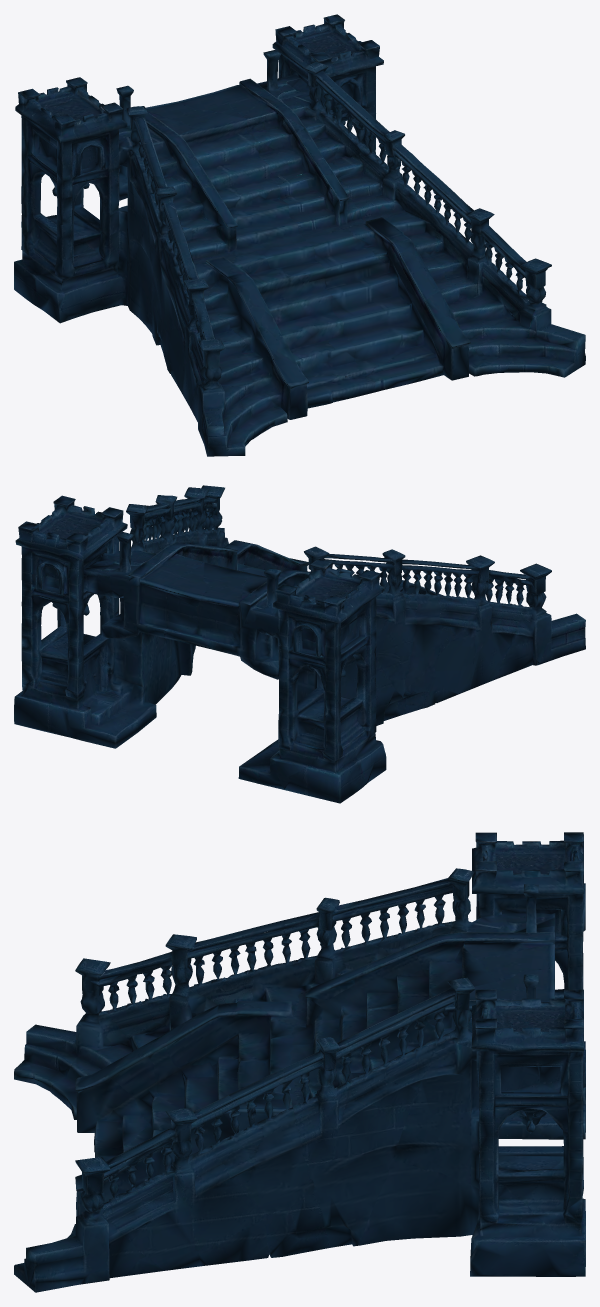
Rendered from causeway-stairs.glb.
3 renders of one model, top to bottom at view 1: azimuth 30°, elevation 25°; view 2: azimuth 150°, elevation 25°; view 3: azimuth 270°, elevation 25°, orthographic. The views are drawn at different scales.
Bounding box in the file's own units: 1.82 × 0.9184 × 1.9.
Materials: 1 (1 with a texture image).
